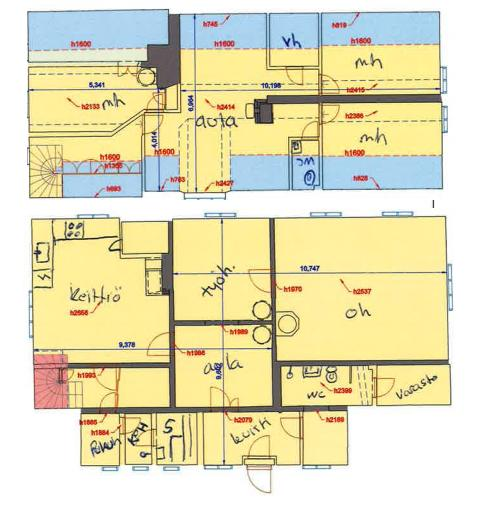bathroom: (280, 365, 352, 405), (289, 139, 321, 189)
door: (244, 456, 275, 495), (242, 434, 275, 465), (244, 266, 276, 294), (144, 331, 174, 360), (369, 374, 397, 400), (278, 415, 307, 439), (208, 383, 230, 414), (316, 73, 343, 94), (130, 428, 158, 448), (318, 102, 340, 127), (282, 64, 308, 85), (118, 415, 143, 436), (298, 119, 321, 141), (99, 391, 120, 414), (142, 114, 164, 135), (146, 92, 165, 112), (150, 90, 169, 106)
perimeter: (31, 219, 452, 469), (28, 11, 446, 194)
stairs: (35, 355, 81, 406), (27, 144, 61, 197)
window: (181, 188, 231, 202), (444, 261, 457, 314), (26, 287, 36, 343), (304, 209, 347, 221), (202, 209, 237, 221), (438, 63, 450, 94), (438, 104, 450, 133), (75, 212, 113, 221), (202, 461, 235, 471), (379, 209, 418, 217), (300, 463, 333, 472), (99, 463, 122, 475), (158, 463, 182, 473), (130, 462, 151, 472), (25, 145, 32, 168)
